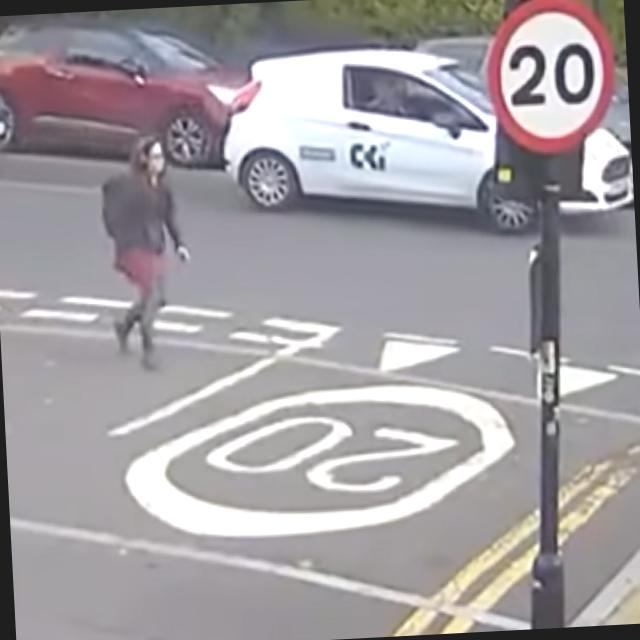person: (100, 135, 194, 372)
